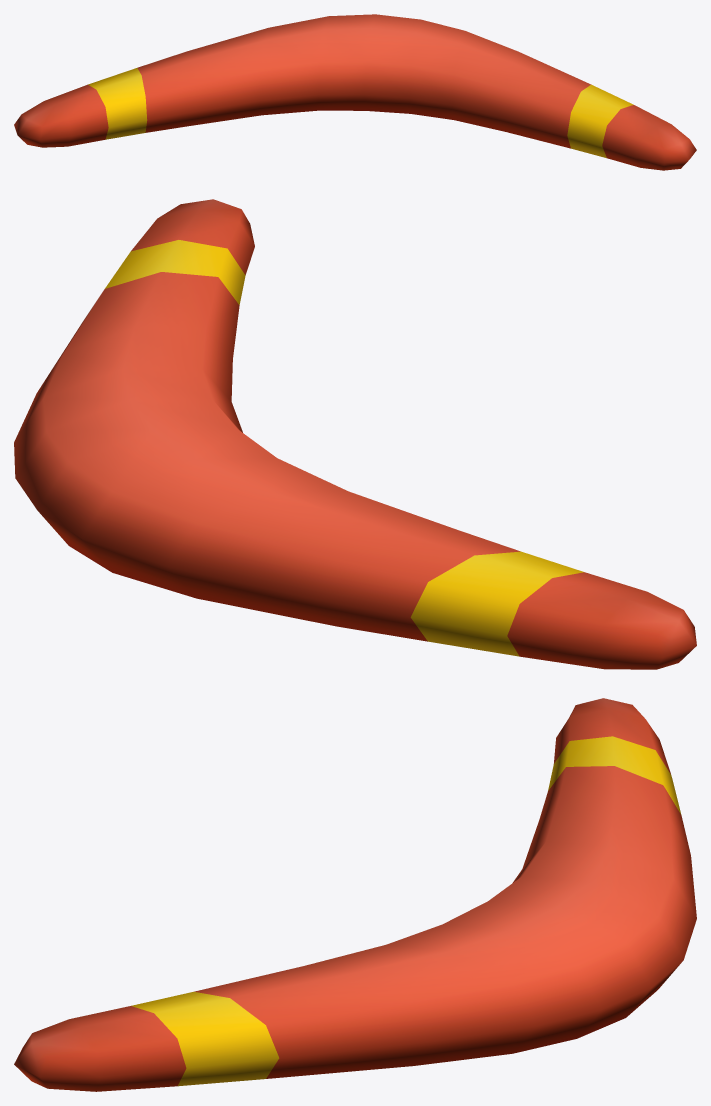
The model's file is Boomerang.fbx.
The picture shows the model from 3 angles, top to bottom: view 1: azimuth 30°, elevation 25°; view 2: azimuth 150°, elevation 25°; view 3: azimuth 270°, elevation 25°; orthographic projection. The views are drawn at different scales.
Visible parts, largest first — view 1: Boomerang; view 2: Boomerang; view 3: Boomerang.
Boxes of the visible parts, bbox=[...] form: Boomerang: bbox=[14, 14, 696, 170]; Boomerang: bbox=[14, 199, 696, 669]; Boomerang: bbox=[14, 698, 696, 1091].
Size of the model in its own units: 2984 by 395 by 2344.
1 material, 1 textured.
